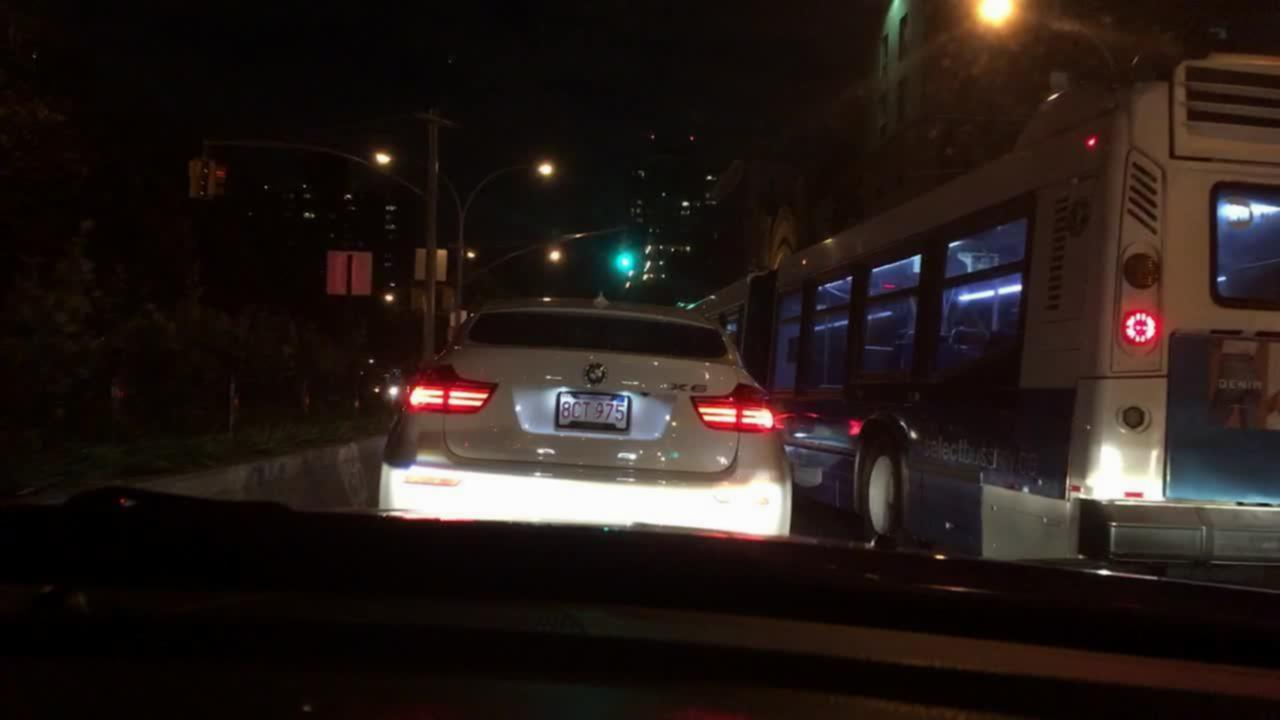bmw: (571, 353, 612, 394)
